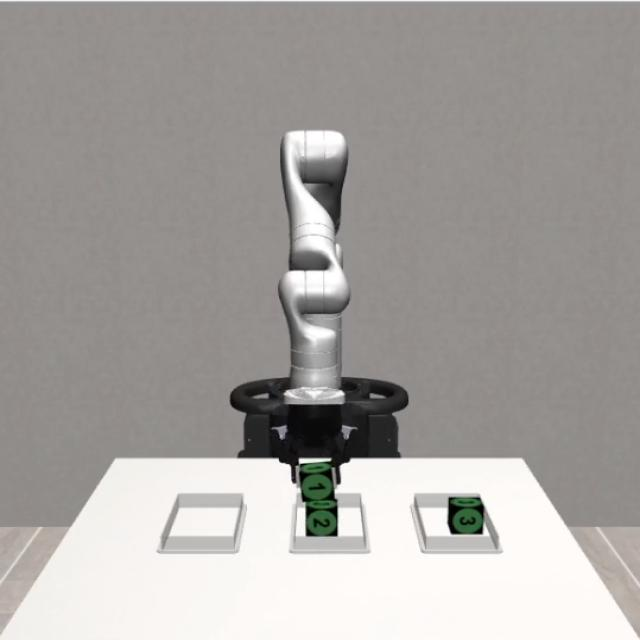cube1: (299, 461, 336, 504)
cube2: (305, 499, 342, 538)
cube3: (447, 496, 485, 534)
